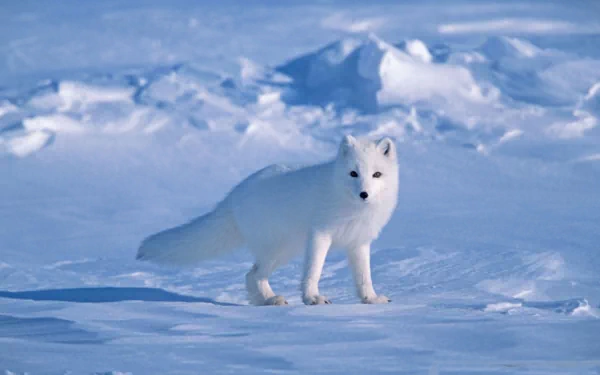arcticfox: (337, 151, 388, 217)
